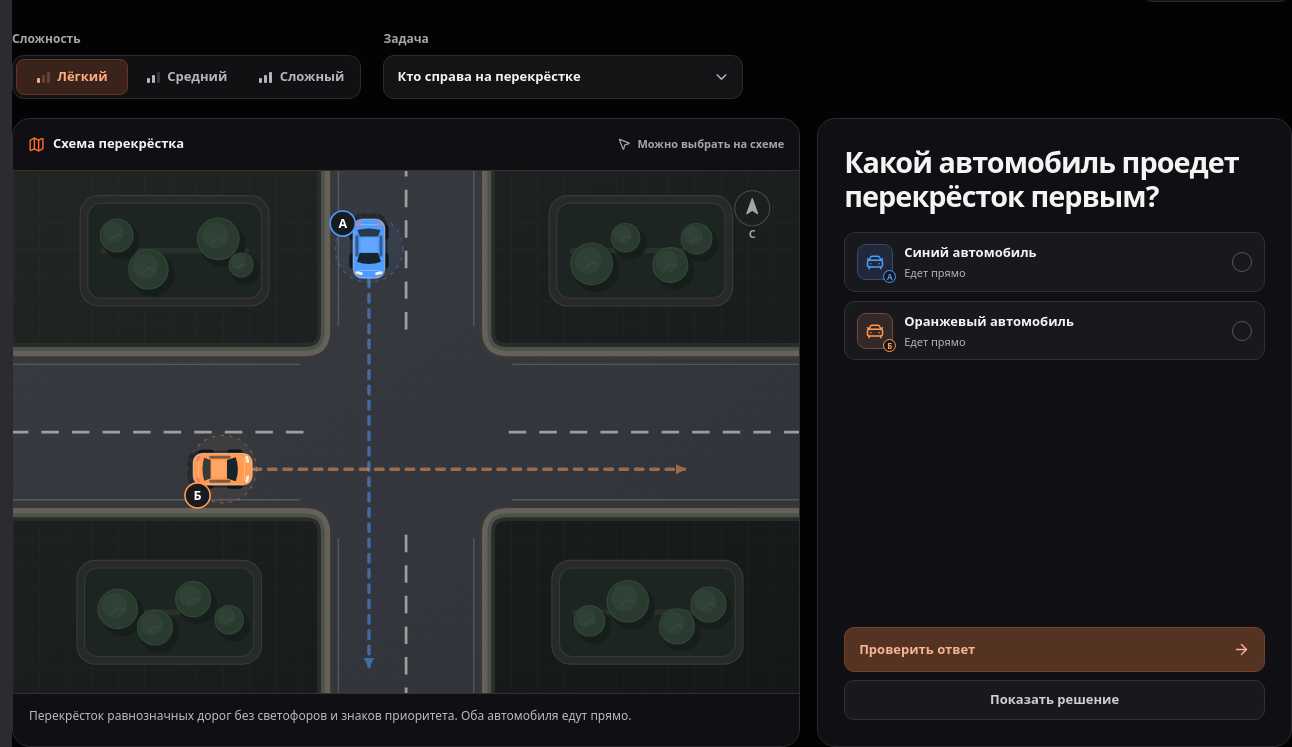
Test case: Тренажёр перекрёстков › показывает решение без записи попытки
(page scrolled)
Click the button "Показать решение".
click(1055, 700)  # box [844,680,1265,720]
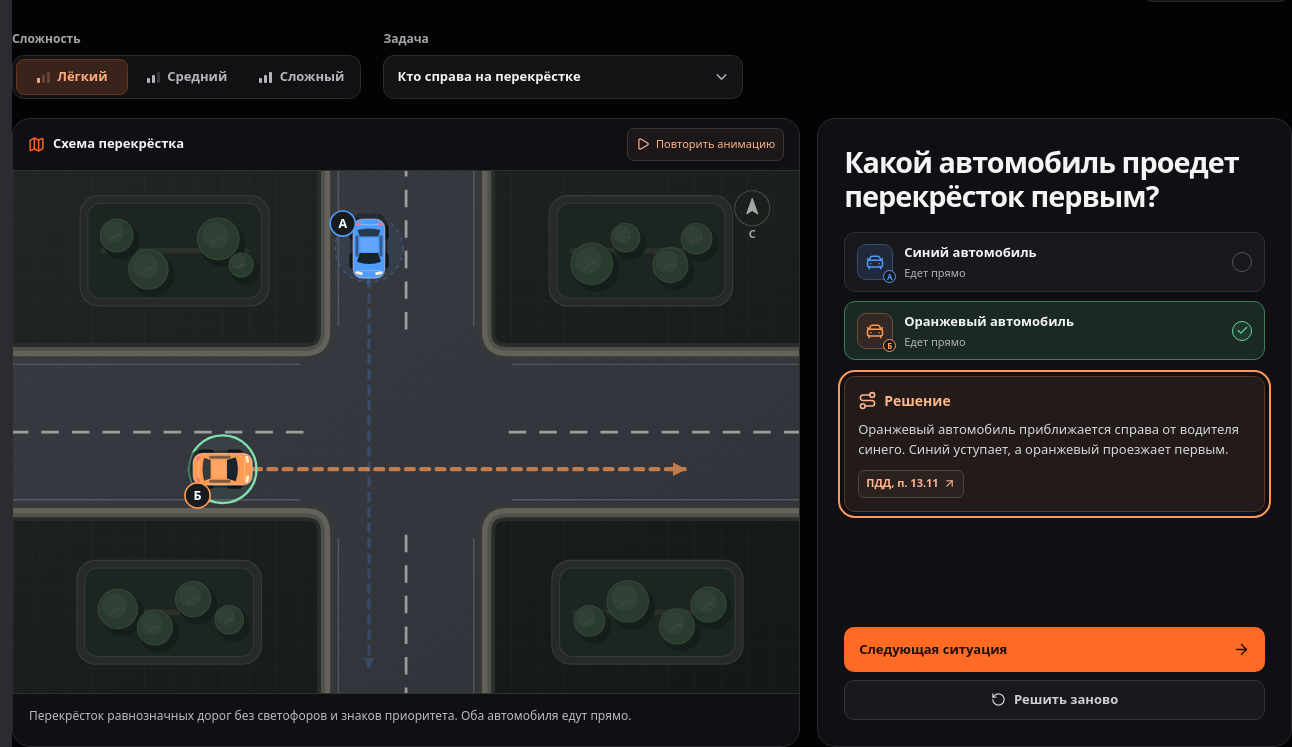
expect the message shows "Решение": met, box [884,391,951,410]
expect the button "Повторить анимацию" is shown: met, box [627,128,784,161]
